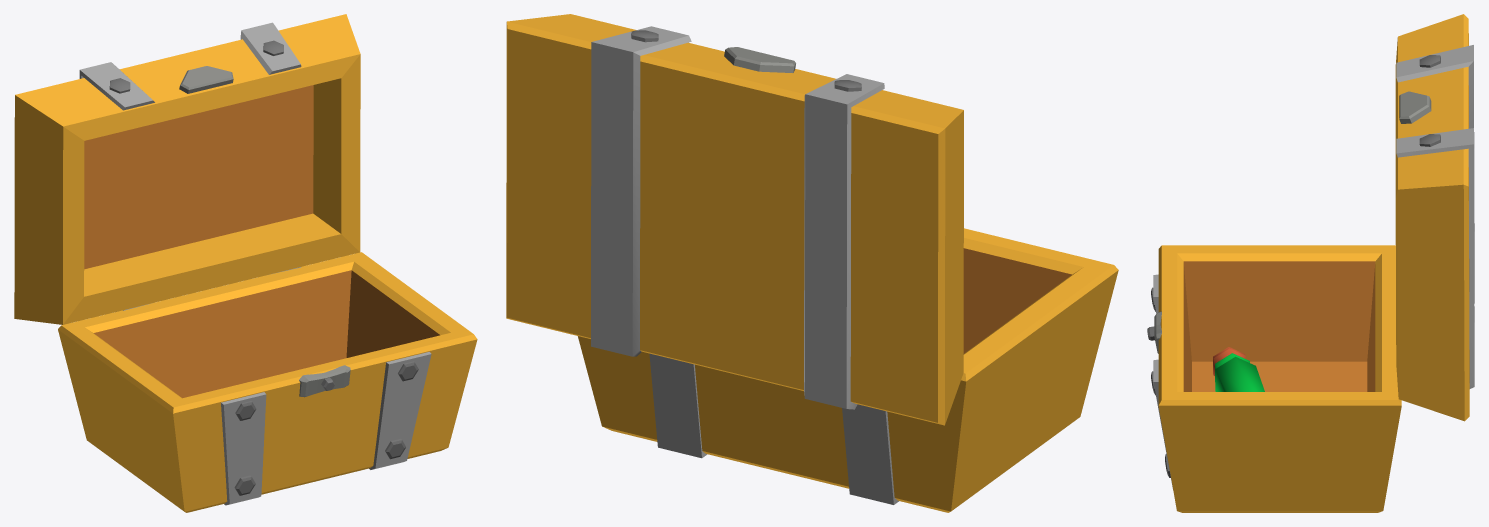
File: OpenChest.fbx
3 views of the same model, side by side, from view 1: azimuth 30°, elevation 25°; view 2: azimuth 150°, elevation 25°; view 3: azimuth 270°, elevation 25° (orthographic). The views are drawn at different scales.
Visible parts, largest first — view 1: top002, bottom002; view 2: top002, bottom002; view 3: bottom002, top002, Vial004.
Boxes of the visible parts, bbox=[...] form: top002: bbox=[14, 14, 360, 324]; bottom002: bbox=[58, 252, 477, 512]; top002: bbox=[506, 14, 963, 425]; bottom002: bbox=[578, 228, 1118, 512]; bottom002: bbox=[1147, 245, 1401, 512]; top002: bbox=[1395, 14, 1474, 421]; Vial004: bbox=[1213, 347, 1264, 391].
Bounding box in the file's own units: 101 × 97.5 × 81.67.
